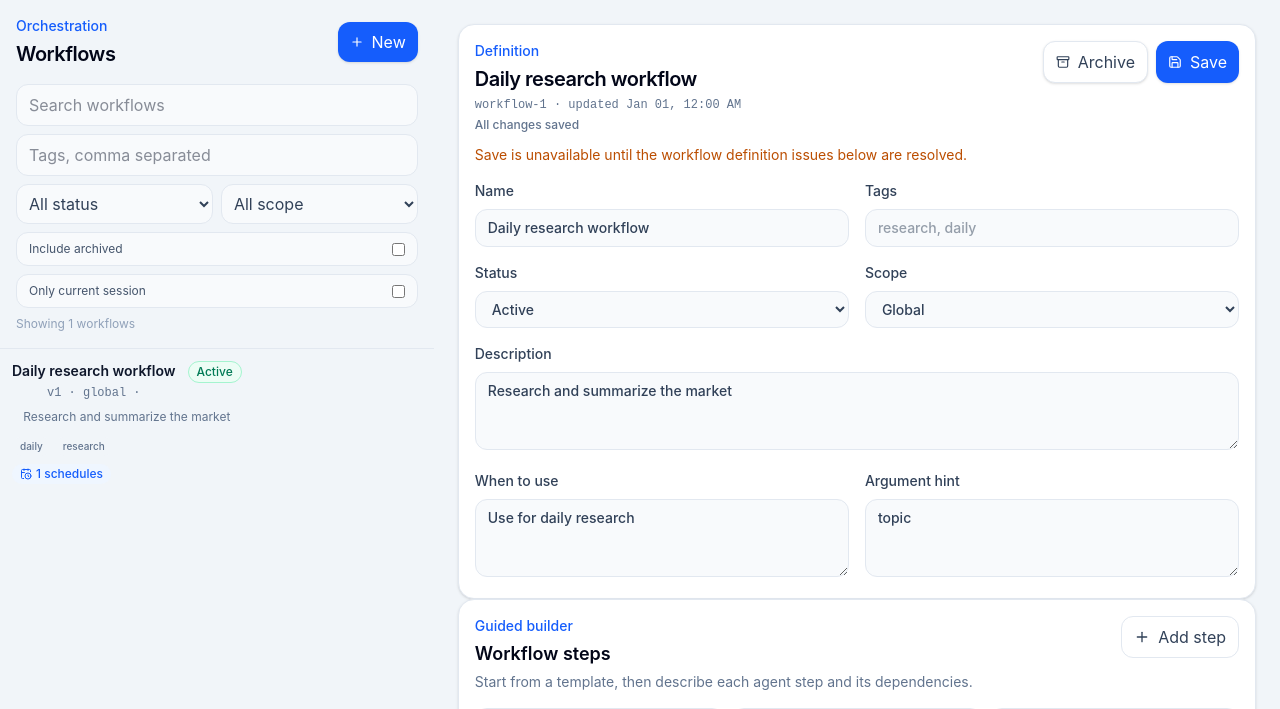
WorkflowsPage workflow schedules › keeps a failed workflow archive confirmation open and shows the error
Click the button "Archive" at (1095, 62), box [1043, 41, 1148, 83]
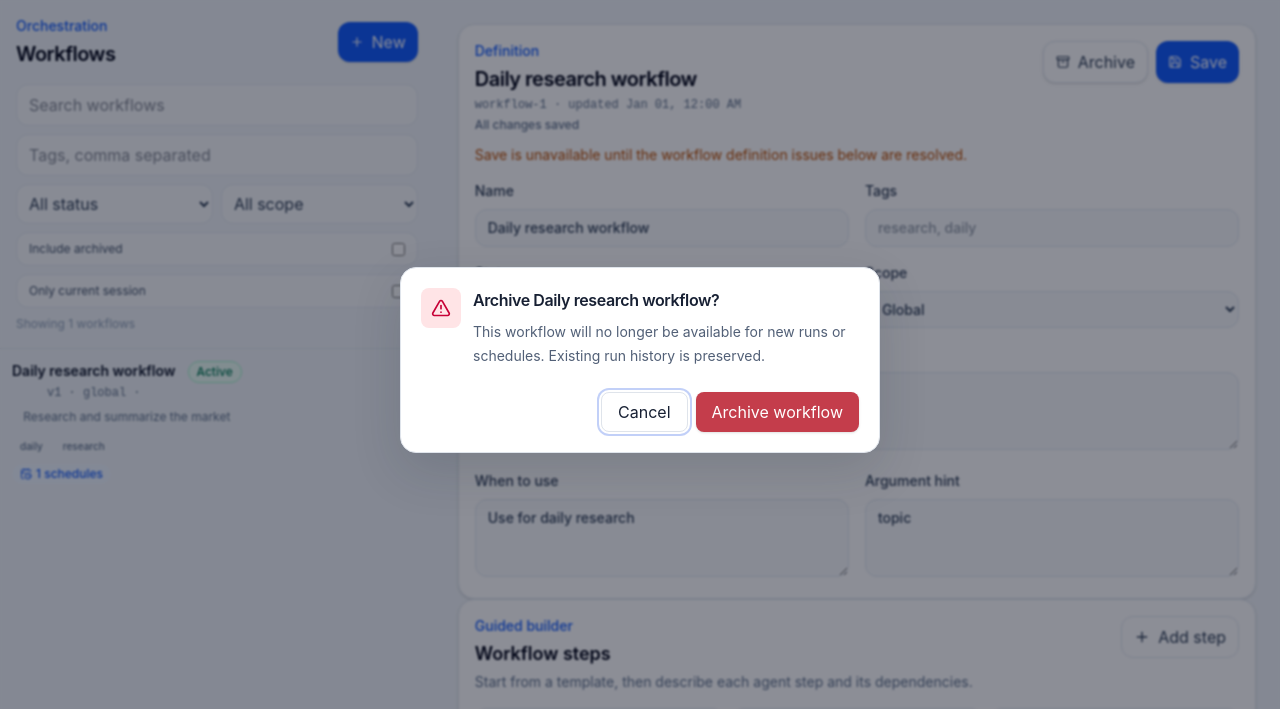
Click the button "Archive workflow" at (777, 412), box [696, 392, 859, 432]
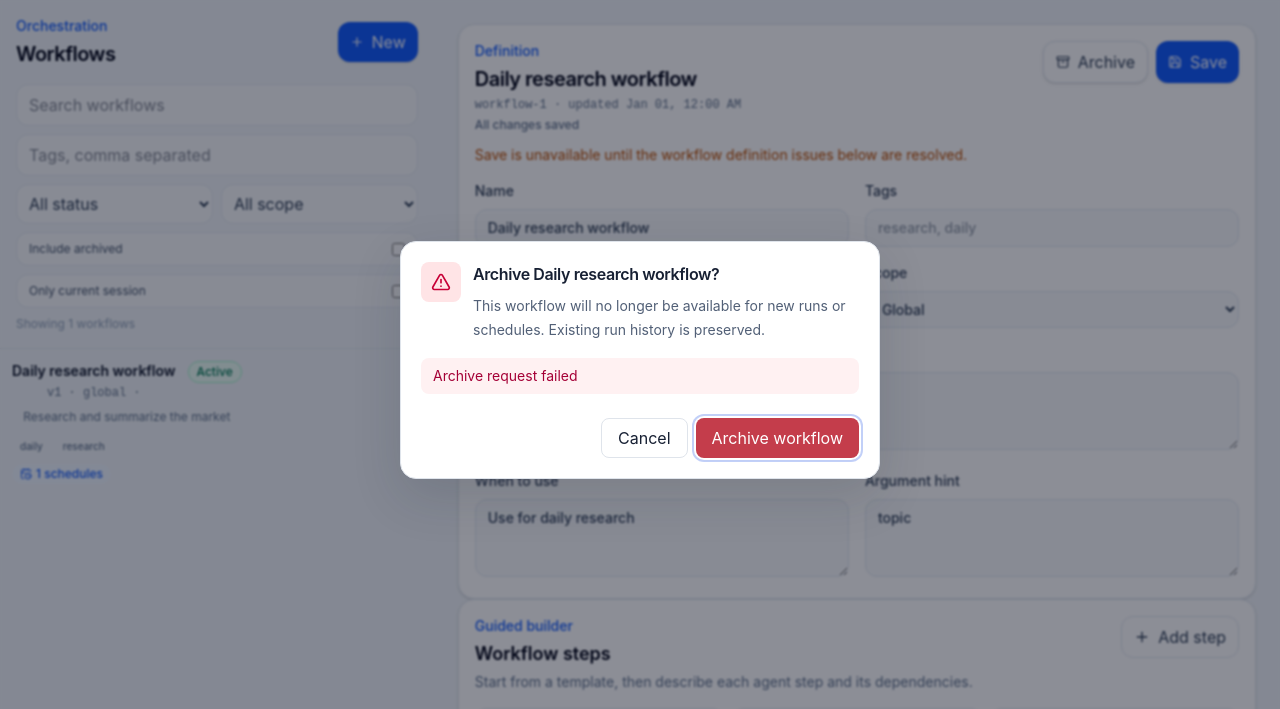
Now the heading "Archive Daily research workflow?" is shown, box [473, 264, 719, 284]
Now the message reads "Archive request failed", box [433, 367, 578, 384]
